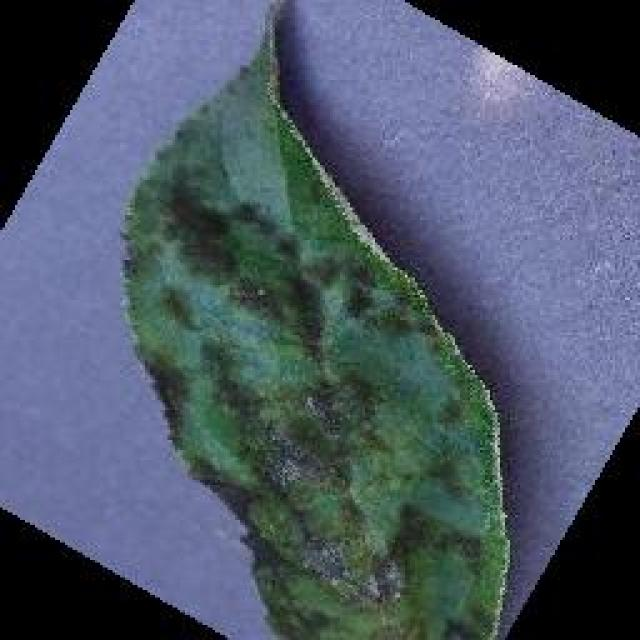apple scab disease: (115, 0, 513, 638)
